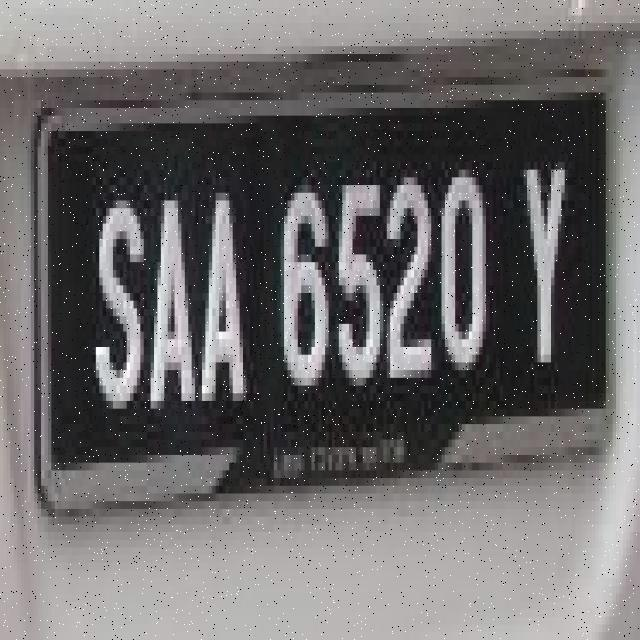LicensePlate: (38, 107, 610, 456)
